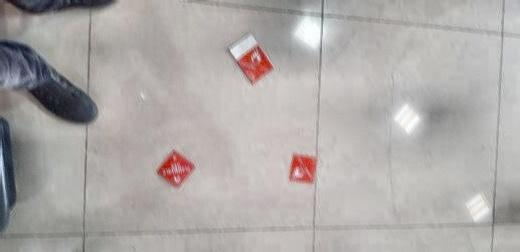flammable: (155, 149, 196, 190), (236, 45, 273, 85), (287, 154, 320, 185)
